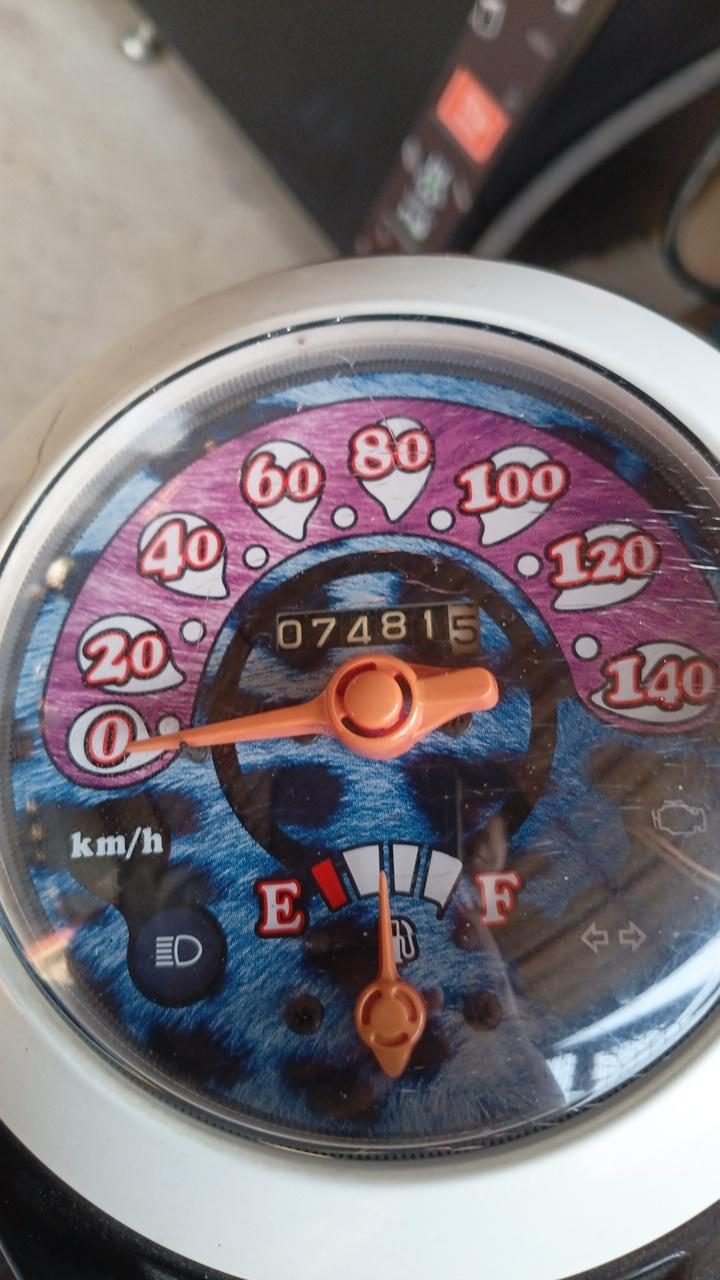0: (277, 619, 302, 651)
1: (423, 608, 433, 640)
4: (345, 615, 372, 645)
5: (452, 614, 478, 646)
7: (311, 617, 338, 650)
8: (380, 611, 407, 641)
odometer: (275, 601, 486, 661)
